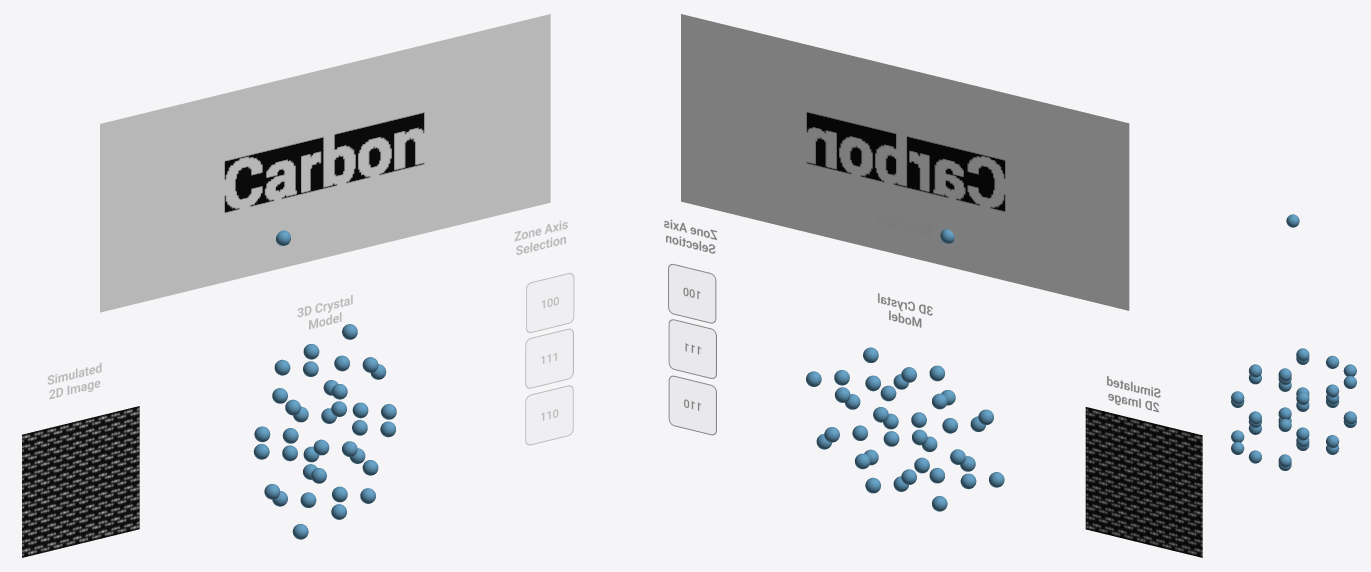
File: Carbon Structure Viewer.glb
The picture shows the model from 3 angles, left to right: view 1: azimuth 30°, elevation 25°; view 2: azimuth 150°, elevation 25°; view 3: azimuth 270°, elevation 25°; orthographic projection. The views are drawn at different scales.
Visible parts, largest first — view 1: CarbonTitle_IMAGES_primitive, mp-24_C_011_HAAD_IMAGES_primitive; view 2: CarbonTitle_IMAGES_primitive, mp-24_C_011_HAAD_IMAGES_primitive; view 3: no part large enough to name.
Part boxes in pixels (bbox=[...]): CarbonTitle_IMAGES_primitive: bbox=[100, 14, 550, 312]; mp-24_C_011_HAAD_IMAGES_primitive: bbox=[22, 406, 139, 557]; CarbonTitle_IMAGES_primitive: bbox=[681, 14, 1129, 310]; mp-24_C_011_HAAD_IMAGES_primitive: bbox=[1085, 407, 1202, 557].
Size of the model in its own units: 1.71 by 1.22 by 0.385.
Materials: 11 (9 with a texture image).
